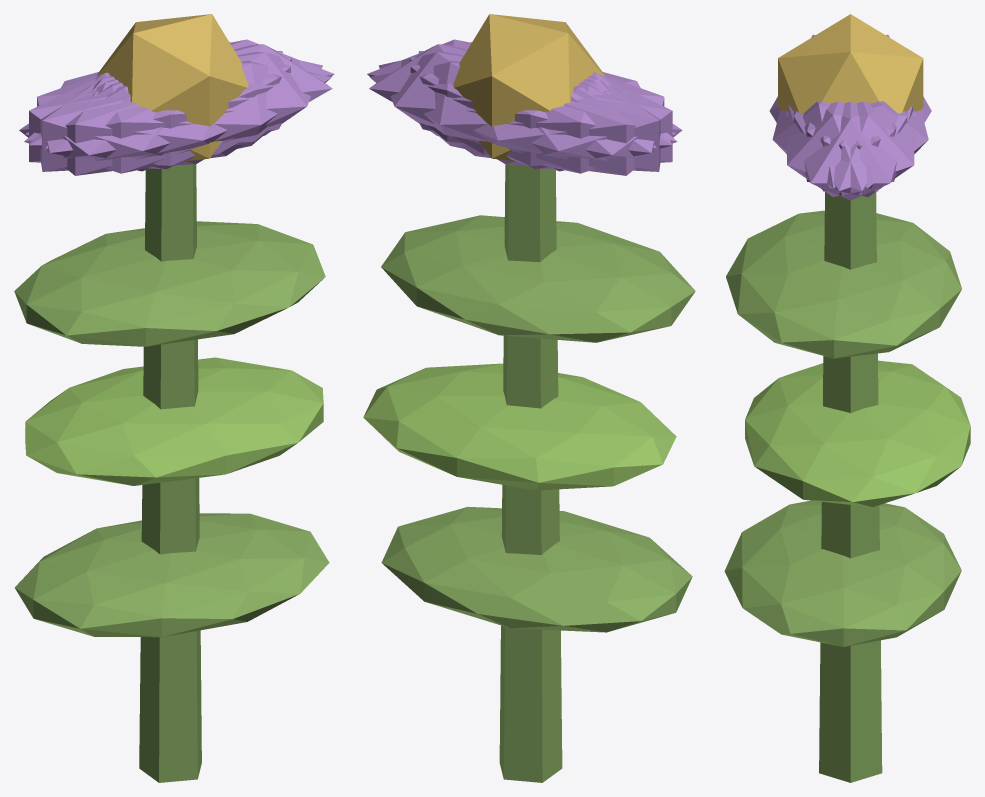
The model's file is euphorbia-hypericifolia.glb.
3 views of the same model, side by side, from view 1: azimuth 30°, elevation 25°; view 2: azimuth 150°, elevation 25°; view 3: azimuth 270°, elevation 25° (orthographic).
Visible parts, largest first — view 1: leaf2, leaf0, leaf1, stem, center, petal1, petal6, petal2, petal5, petal7, petal0, petal4 (+2 smaller); view 2: leaf1, leaf2, leaf0, stem, center, petal8, petal3, petal7, petal4, petal2, petal0, petal5 (+2 smaller); view 3: leaf2, leaf1, leaf0, stem, center, petal0, petal5, petal4, petal8, petal1.
Part boxes in pixels (x1,y1,x2,y2): leaf2: [14, 221, 325, 346]; leaf0: [14, 513, 329, 637]; leaf1: [25, 357, 323, 485]; stem: [139, 164, 201, 782]; center: [97, 14, 248, 161]; petal1: [24, 60, 331, 173]; petal6: [19, 74, 241, 175]; petal2: [40, 51, 282, 171]; petal5: [45, 52, 322, 165]; petal7: [29, 57, 291, 169]; petal0: [96, 44, 332, 154]; petal4: [25, 39, 334, 145]; leaf1: [363, 363, 676, 490]; leaf2: [381, 215, 695, 342]; leaf0: [381, 507, 692, 632]; stem: [499, 164, 562, 782]; center: [453, 14, 604, 161]; petal8: [370, 60, 677, 173]; petal3: [459, 74, 682, 175]; petal7: [418, 51, 660, 171]; petal4: [378, 52, 656, 165]; petal2: [409, 57, 672, 169]; petal0: [369, 44, 604, 154]; petal5: [367, 39, 675, 145]; leaf2: [726, 210, 961, 358]; leaf1: [745, 360, 970, 507]; leaf0: [724, 500, 961, 646]; stem: [819, 192, 882, 782]; center: [778, 14, 923, 113]; petal0: [788, 101, 912, 200]; petal5: [786, 101, 907, 196]; petal4: [793, 101, 914, 196]; petal8: [804, 101, 928, 188]; petal1: [772, 101, 896, 188].
Bounding box in the file's own units: 0.1452 × 0.3421 × 0.1036.
